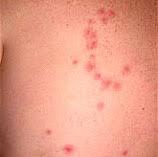Bed Bugs: (82, 18, 98, 50), (94, 3, 116, 24), (100, 79, 121, 92), (58, 140, 75, 156), (85, 54, 95, 71), (120, 64, 130, 75), (95, 101, 104, 112), (120, 146, 129, 156), (94, 69, 102, 80), (44, 128, 54, 136), (72, 59, 78, 64)
